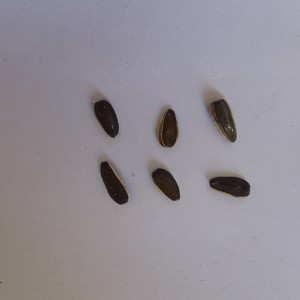girasol: (97, 158, 130, 207), (208, 97, 240, 144), (89, 99, 120, 138), (150, 166, 182, 203), (208, 175, 252, 200), (157, 107, 180, 149)
